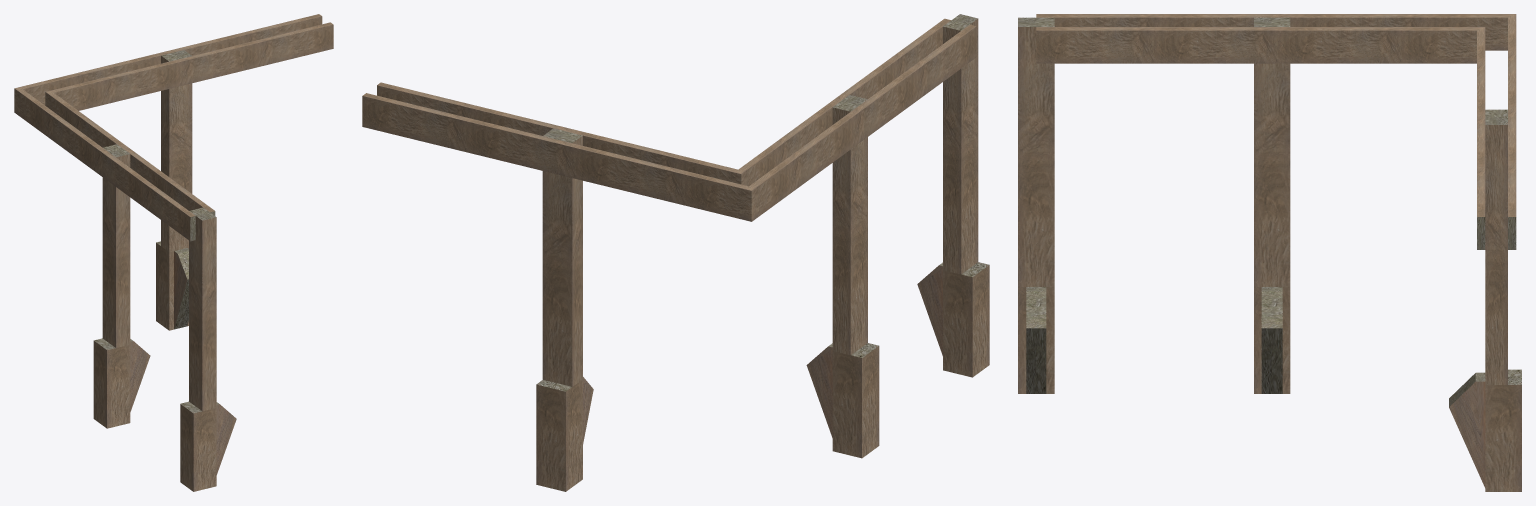
Rendered from WoodFloorHalfRailCrnerB.fbx.
3 views of the same model, side by side, from view 1: azimuth 30°, elevation 25°; view 2: azimuth 150°, elevation 25°; view 3: azimuth 270°, elevation 25° (orthographic). The views are drawn at different scales.
Parts seen in each view (by area): view 1: WoodFloorHalfRailCrnerB; view 2: WoodFloorHalfRailCrnerB; view 3: WoodFloorHalfRailCrnerB.
Boxes of the visible parts, x1,y1,x2,y2 form: WoodFloorHalfRailCrnerB: [14, 14, 333, 491]; WoodFloorHalfRailCrnerB: [362, 14, 989, 491]; WoodFloorHalfRailCrnerB: [1018, 14, 1521, 491].
Bounding box in the file's own units: 208 × 174 × 216.
